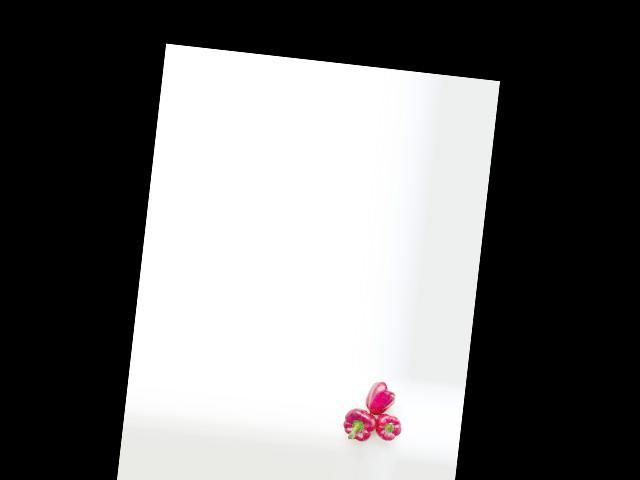bell_pepper: (361, 375, 403, 418)
